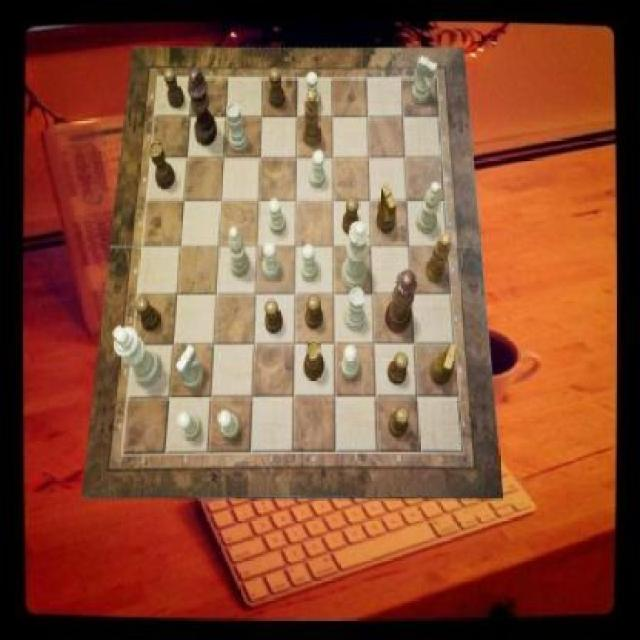bishop: (426, 233, 451, 284), (303, 89, 322, 147)
black-bishop: (188, 68, 217, 148)
black-king: (431, 343, 458, 385), (377, 183, 397, 234)
black-knight: (135, 297, 160, 331), (164, 68, 184, 108), (269, 68, 286, 108), (388, 406, 408, 439), (343, 197, 360, 235), (388, 354, 408, 386), (305, 295, 322, 330), (265, 299, 282, 333)
black-pawn: (385, 271, 417, 333)
black-queen: (149, 143, 176, 191), (304, 340, 326, 380)
black-rook: (417, 181, 441, 234), (229, 228, 250, 278)
white-bishop: (114, 326, 163, 388)
white-king: (177, 345, 205, 390), (411, 57, 437, 105)
white-knight: (177, 412, 201, 440), (269, 198, 287, 234), (262, 242, 279, 280), (310, 149, 326, 188), (218, 411, 241, 438), (302, 244, 319, 280), (304, 71, 320, 109), (342, 345, 359, 379)
white-pawn: (343, 222, 371, 290)
white-queen: (228, 103, 248, 152), (346, 288, 366, 332)
